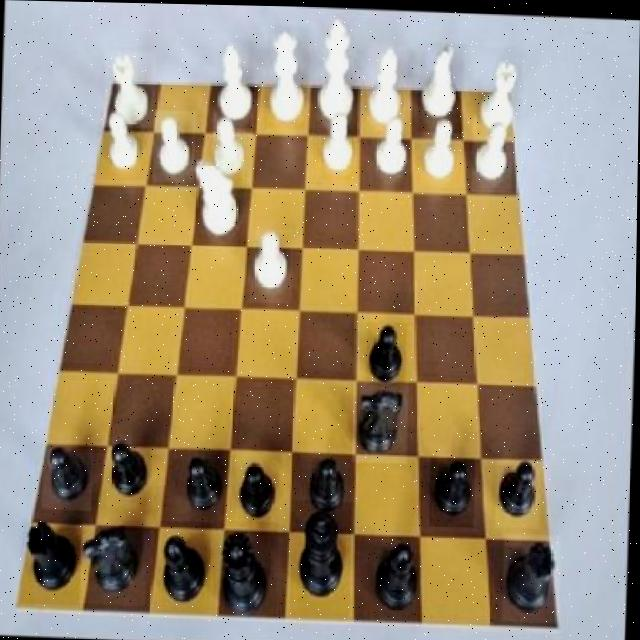bishop: (155, 520, 215, 614), (370, 530, 431, 617)
black-bishop: (292, 499, 356, 617)
black-king: (82, 525, 149, 605), (354, 379, 411, 463)
black-knight: (235, 452, 287, 525), (302, 445, 352, 520), (106, 437, 158, 508), (178, 449, 226, 524), (43, 444, 95, 511), (429, 454, 476, 525), (497, 458, 543, 526), (367, 320, 409, 390)
black-pawn: (215, 519, 280, 619)
black-queen: (503, 530, 563, 620), (21, 519, 83, 605)
black-rook: (367, 42, 409, 124), (218, 36, 255, 127)
white-bishop: (318, 10, 363, 128)
white-king: (191, 152, 241, 247), (419, 39, 466, 131)
white-knight: (97, 110, 148, 180), (250, 226, 294, 302), (472, 114, 514, 192), (153, 110, 197, 184), (420, 112, 462, 185), (373, 107, 411, 187), (212, 113, 254, 184), (320, 109, 360, 180)
white-pawn: (265, 23, 311, 128)
white-queen: (103, 50, 157, 128), (478, 44, 523, 134)
